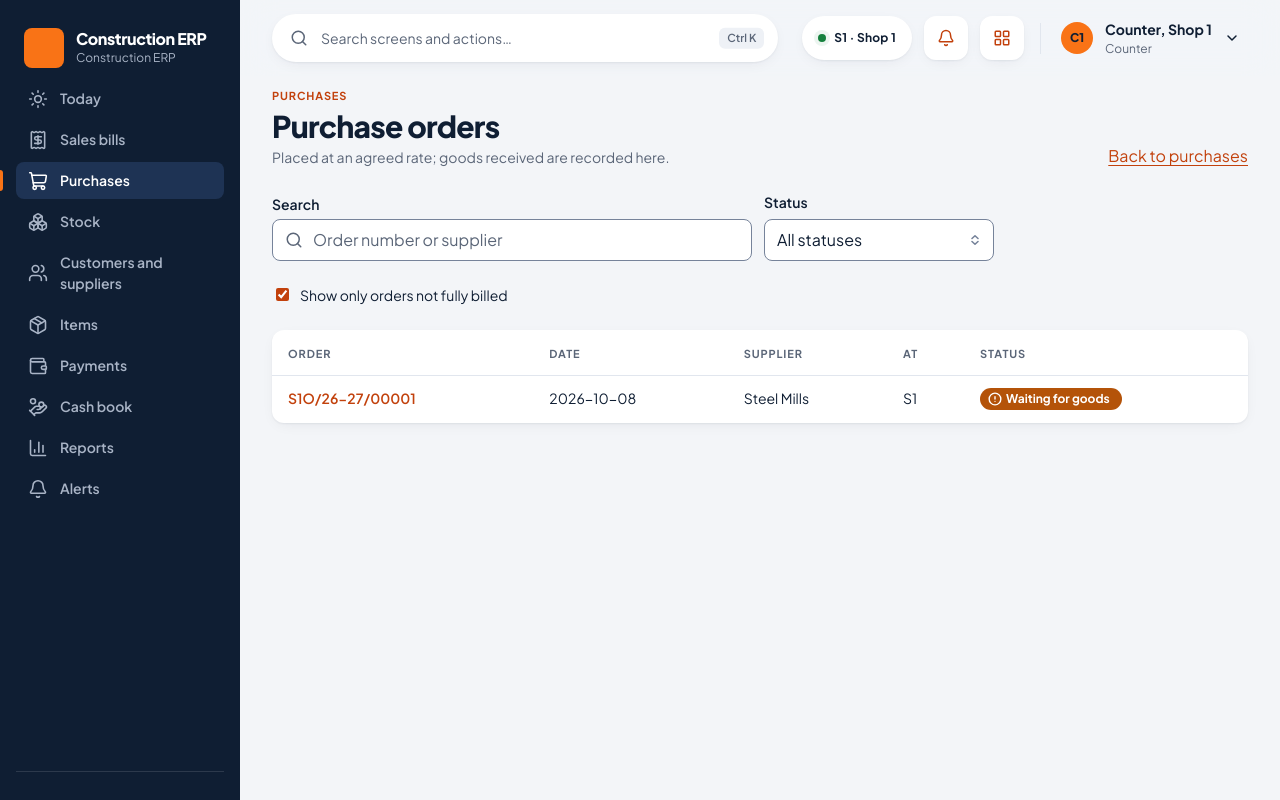
Test: Purchase orders › lets a counter user record goods received but not see a rate
The width and height of the screenshot is (1280, 800).
Click the button "S1O/26-27/00001" at (352, 398), box [288, 388, 416, 408]
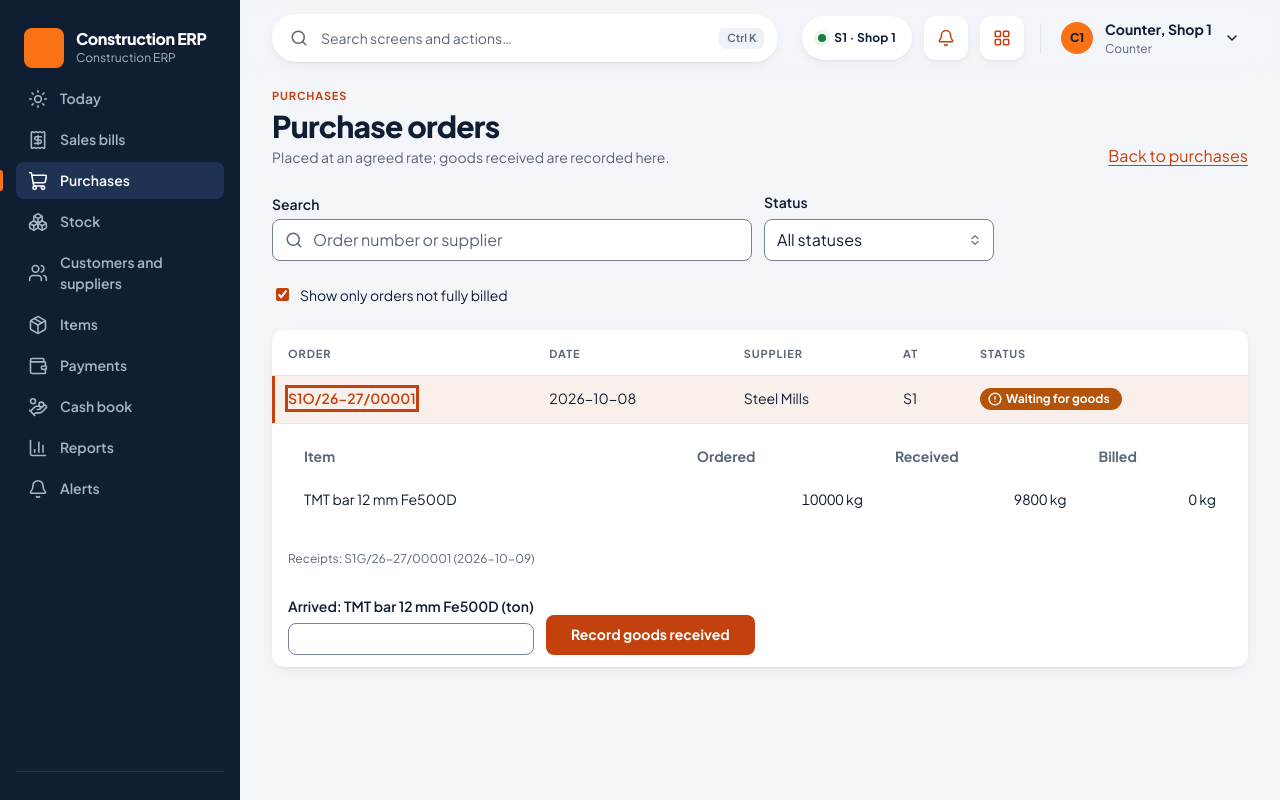
Type "0.2" into the field labelled "Arrived: TMT bar 12 mm Fe500D (ton)" at (411, 639), box [288, 623, 534, 655]
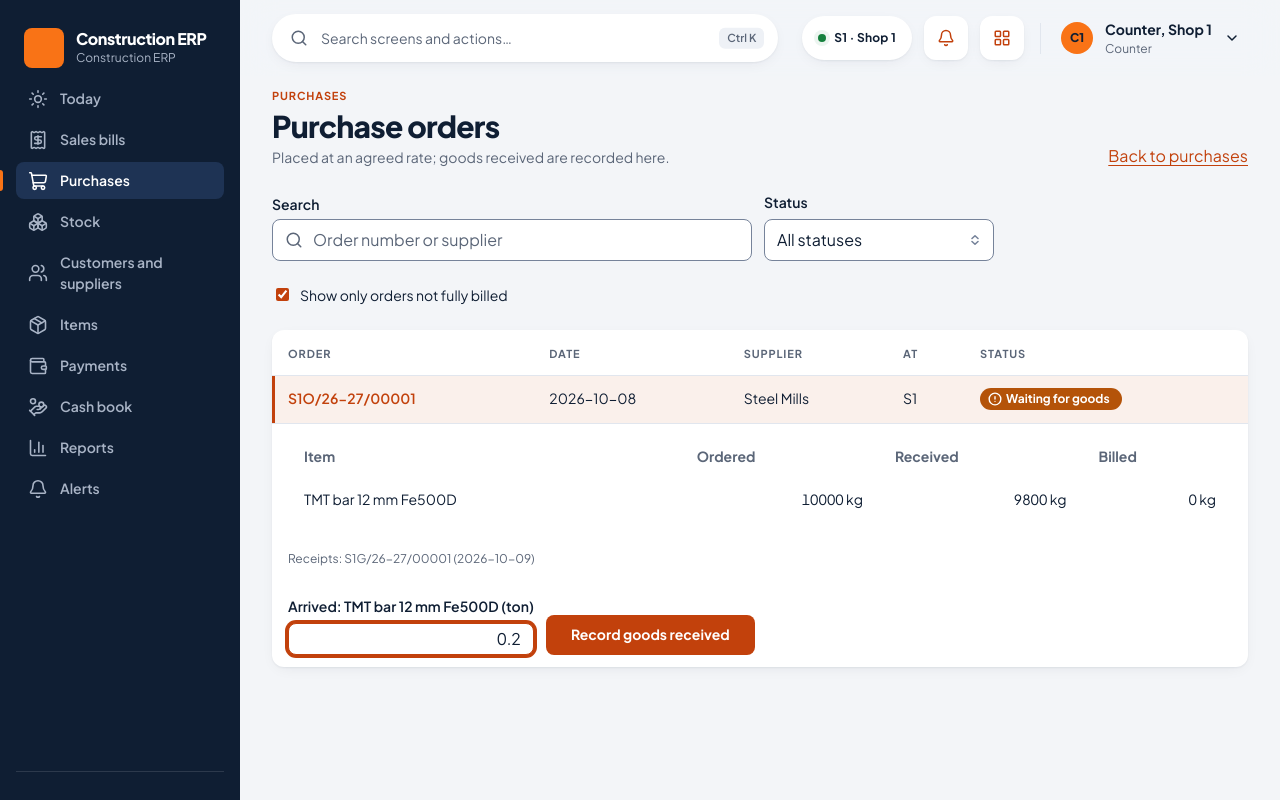
Click the button "Record goods received" at (650, 635), box [546, 615, 755, 655]
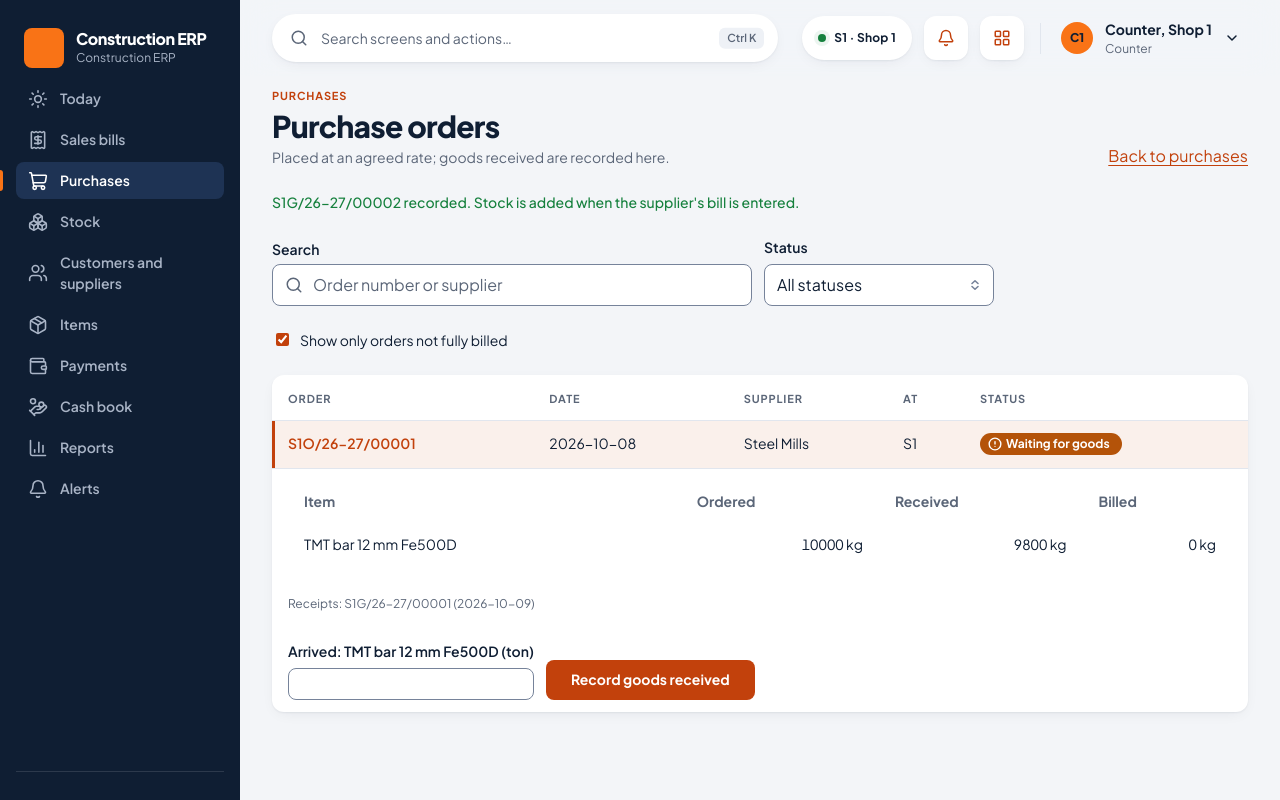
Check: the text "S1G/26-27/00002 recorded. Stock is added when the supplier's bill is entered." is shown, box [272, 193, 800, 211]
